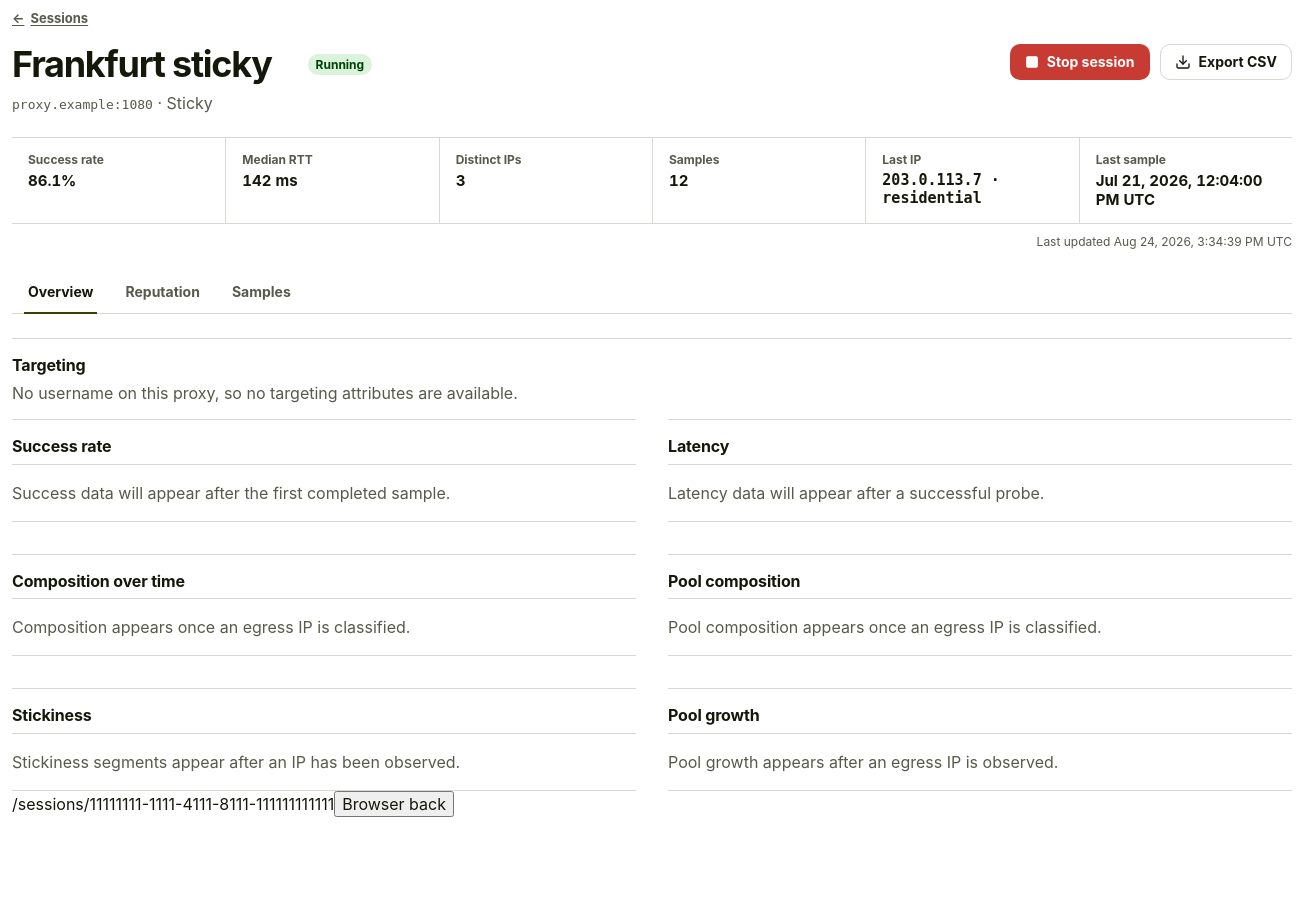
SessionPage › keeps partial reports usable with specific empty-state explanations
This screenshot has width=1304, height=900.
Expected: the heading "Frankfurt sticky" is shown, [12,44,296,85]
Expected: the text "Success data will appear after the first completed sample." is shown, [12,464,636,522]
Click the tab "Reputation" at (163, 291), box [109,269,216,313]
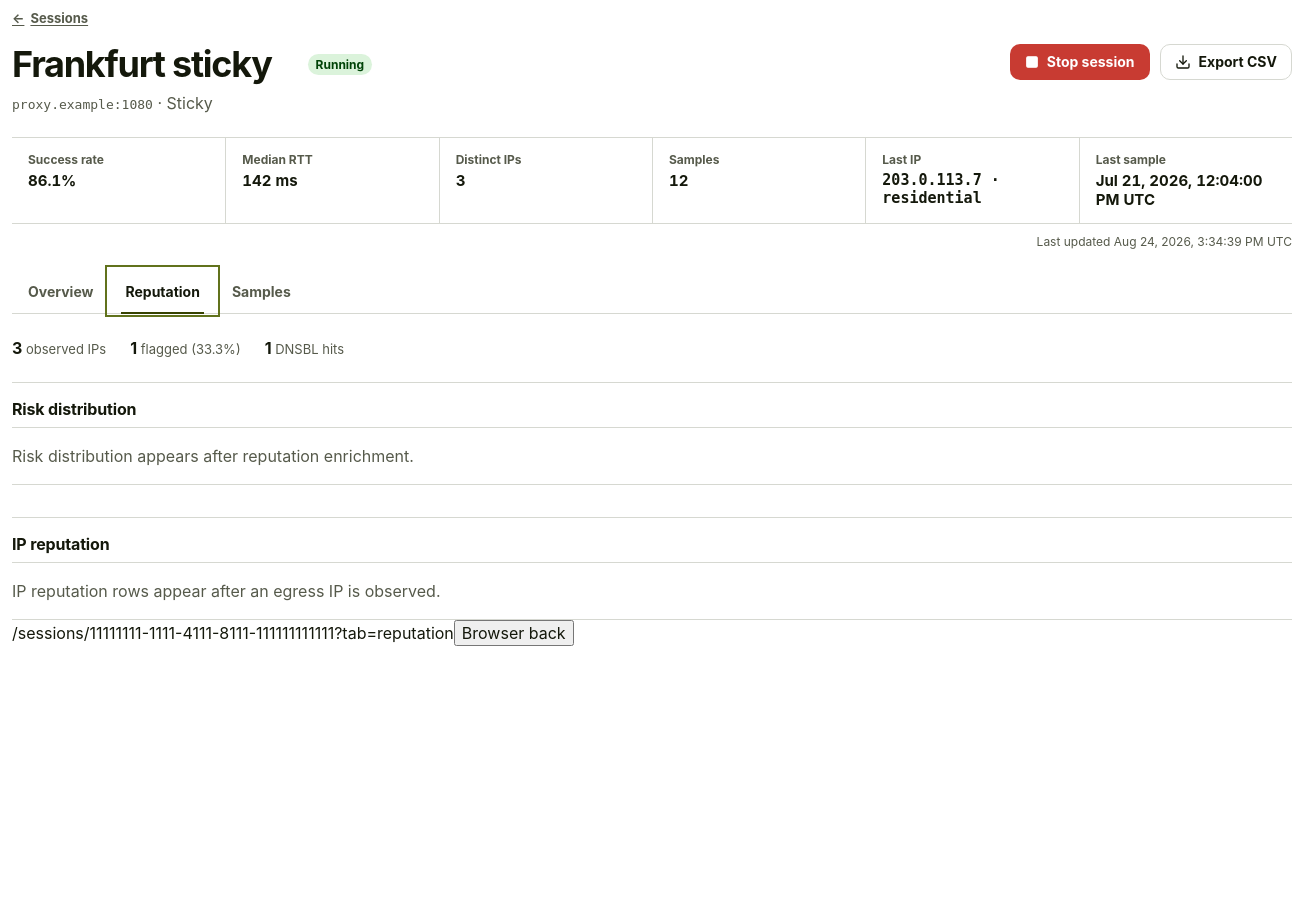
Now the text "Risk distribution appears after reputation enrichment." is shown, box [12,427,1292,485]
Now the text "IP reputation rows appear after an egress IP is observed." is shown, box [12,562,1292,620]
Click the tab "Samples" at (261, 291), box [216,269,307,313]
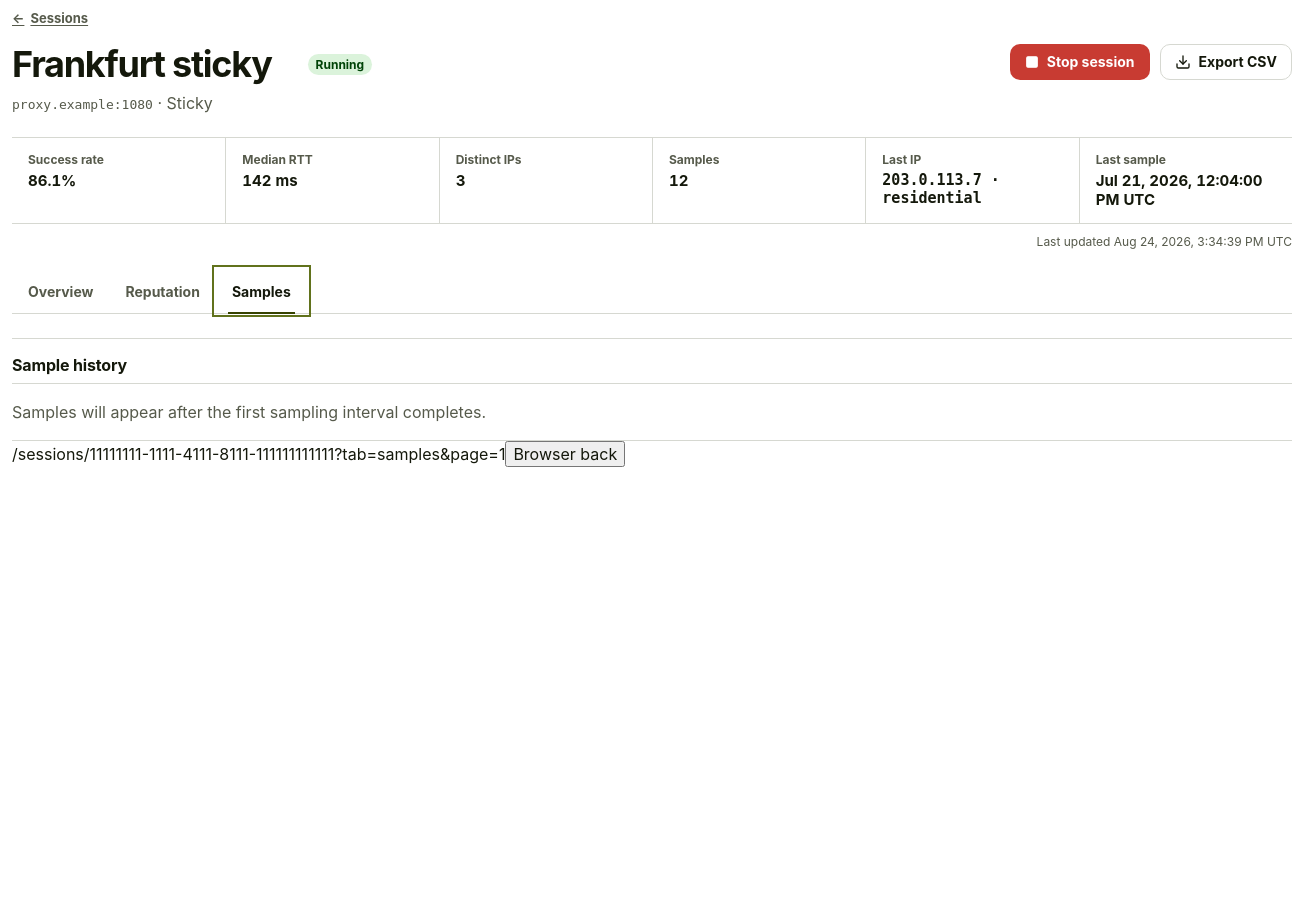
Now the text "Samples will appear after the first sampling interval completes." is shown, box [12,383,1292,441]
